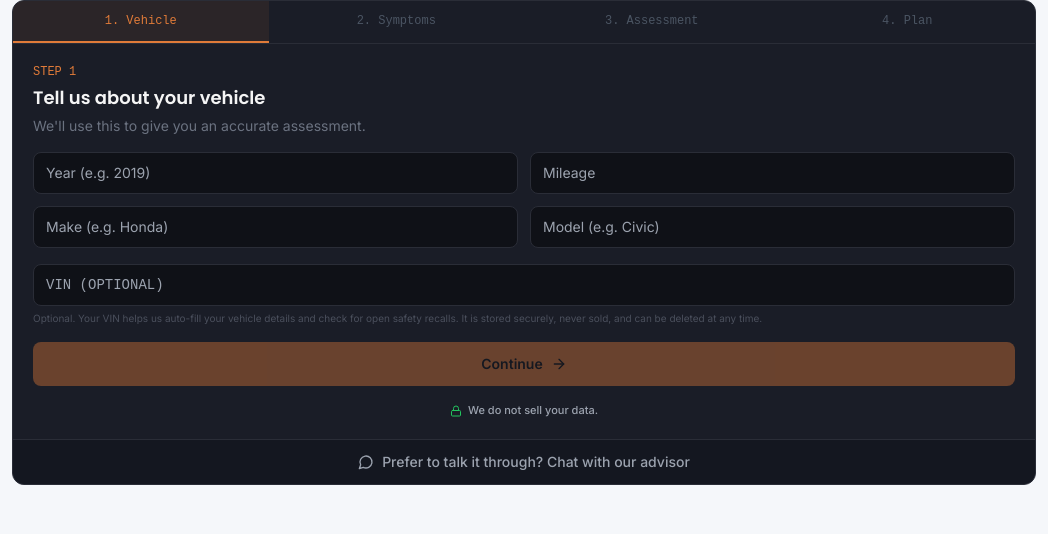
Scenario: Assessment Flow — Missing Fields › shows error for invalid year
The image size is (1048, 534).
In the field with placeholder "Year (e.g. 2019)": (276, 173) 33,152 -> 518,194, type "1800"
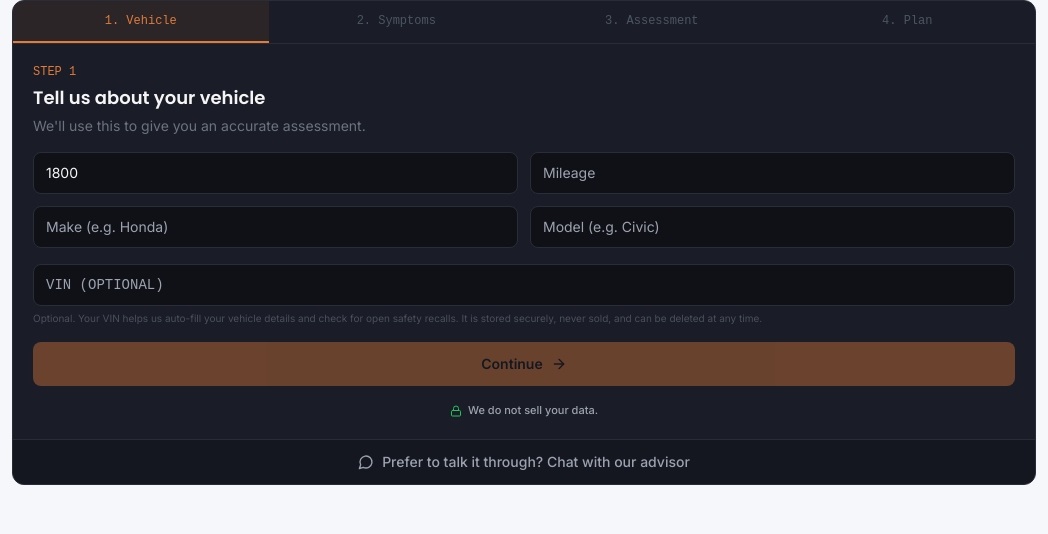
In the field with placeholder "Mileage": (772, 173) 530,152 -> 1015,194, type "50000"
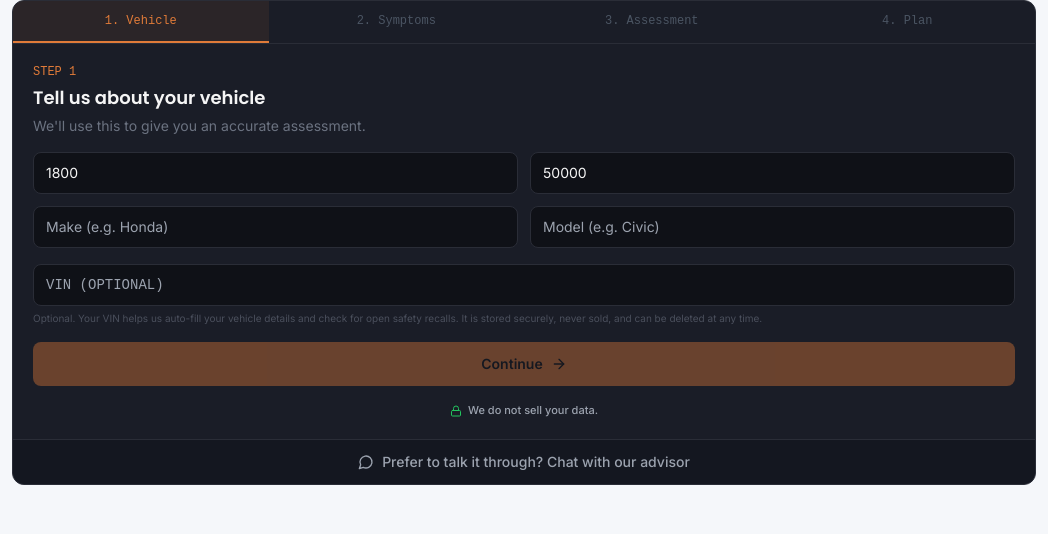
In the field with placeholder "Make (e.g. Honda)": (276, 227) 33,206 -> 518,248, type "Ford"
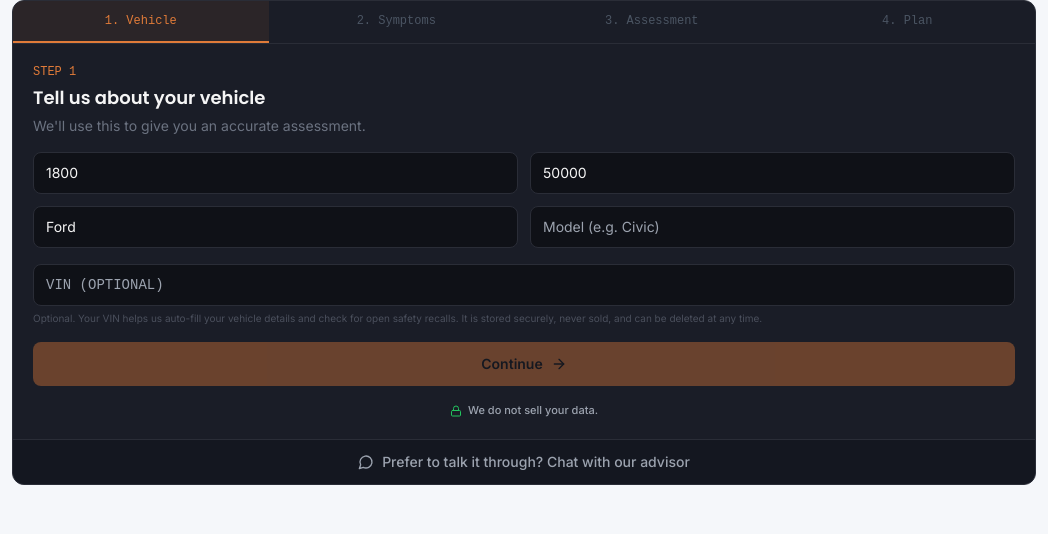
In the field with placeholder "Model (e.g. Civic)": (772, 227) 530,206 -> 1015,248, type "F-150"
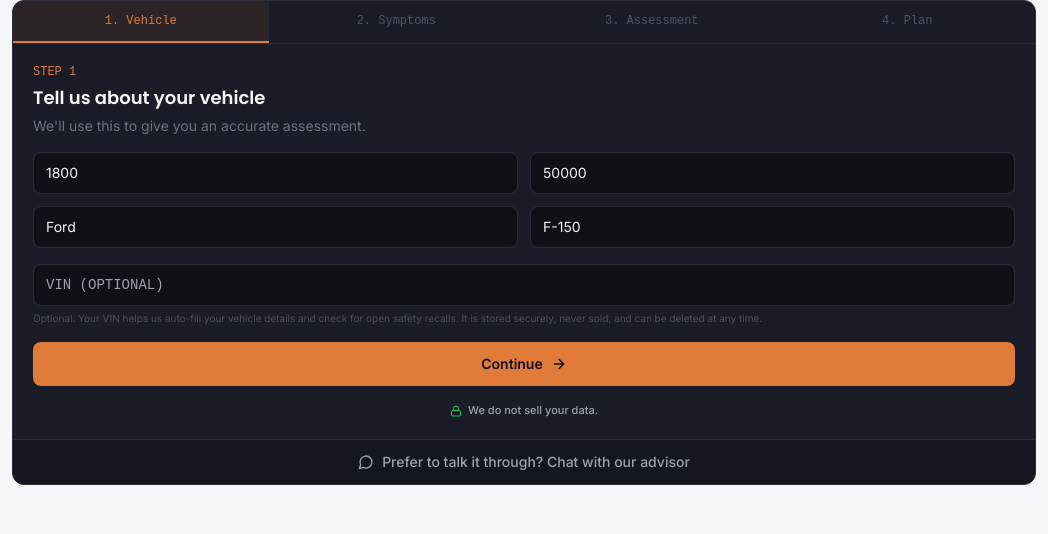
Click the button "Continue": click(524, 364) 33,342 -> 1015,386
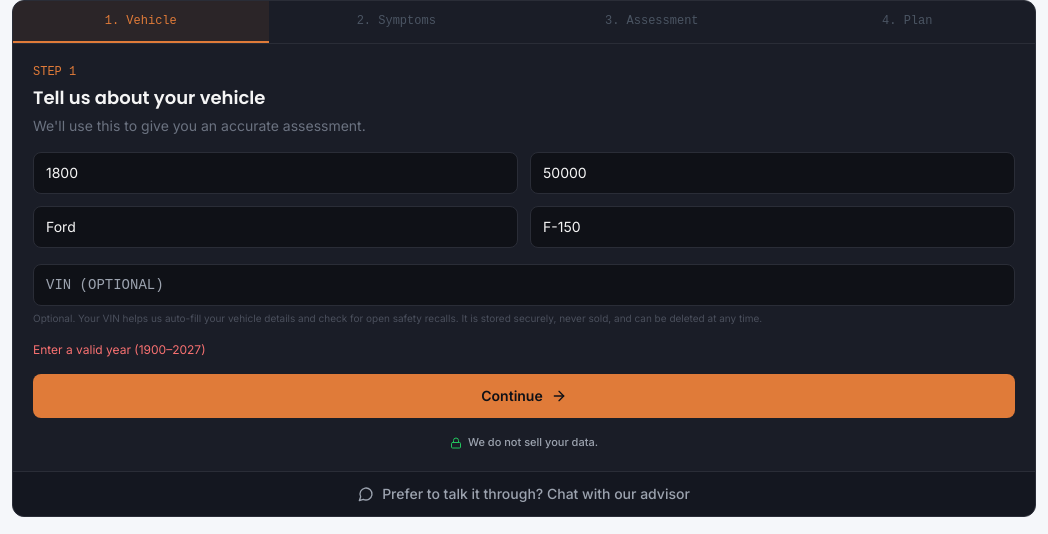
Expected: the text "Enter a valid year (1900–2027)" is shown, 33,342 -> 206,357
